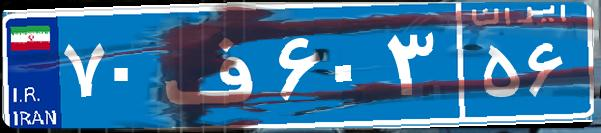0: (330, 28, 385, 110), (110, 28, 158, 105)
3: (385, 28, 445, 110)
5: (475, 38, 525, 113)
6: (273, 28, 330, 110), (525, 38, 570, 115)
7: (57, 26, 110, 107)
ف: (158, 15, 273, 115)
